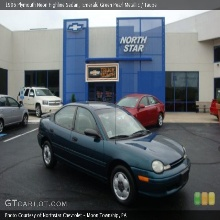no damage: (38, 101, 191, 207), (115, 92, 167, 126), (18, 86, 63, 116), (1, 93, 29, 131)
